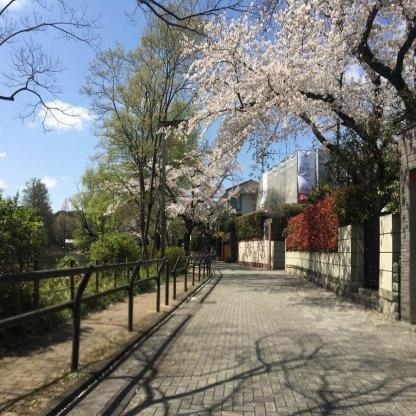Someiyoshino: (147, 0, 416, 162), (96, 148, 250, 230)
